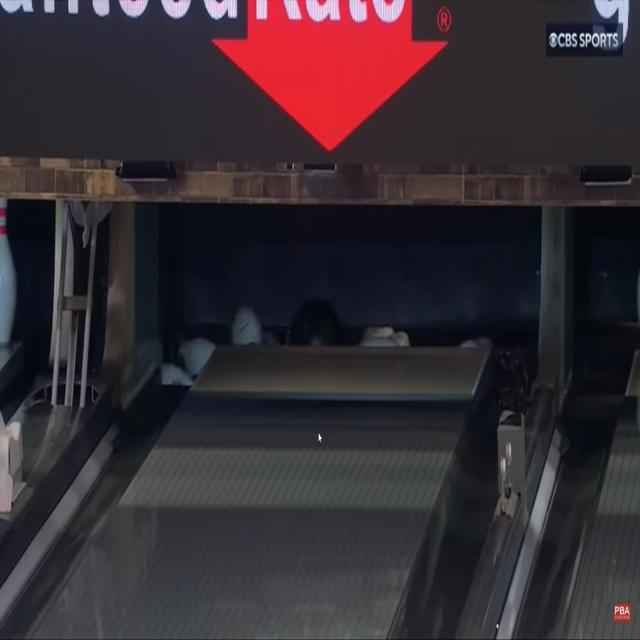alley: (35, 347, 490, 638), (372, 0, 405, 22)
